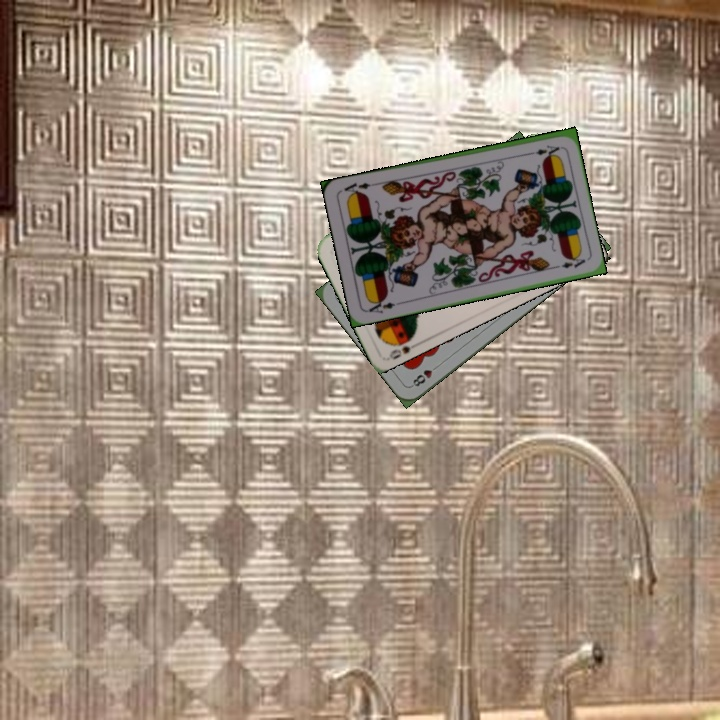EA: (364, 295, 403, 316), (523, 141, 562, 158)
H8: (408, 360, 442, 389)
SO: (385, 330, 418, 362)
